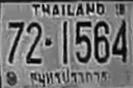1: (62, 20, 67, 60)
2: (25, 22, 42, 64)
4: (112, 19, 126, 62)
5: (74, 20, 90, 62)
6: (93, 20, 108, 62)
7: (8, 21, 24, 62)
SPK: (29, 67, 110, 87)
